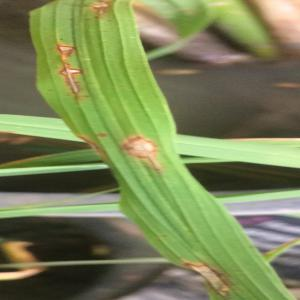Rice_Blast: (119, 118, 170, 180), (65, 124, 129, 172), (175, 249, 233, 300), (40, 33, 96, 71), (54, 59, 96, 97), (85, 1, 120, 19)
